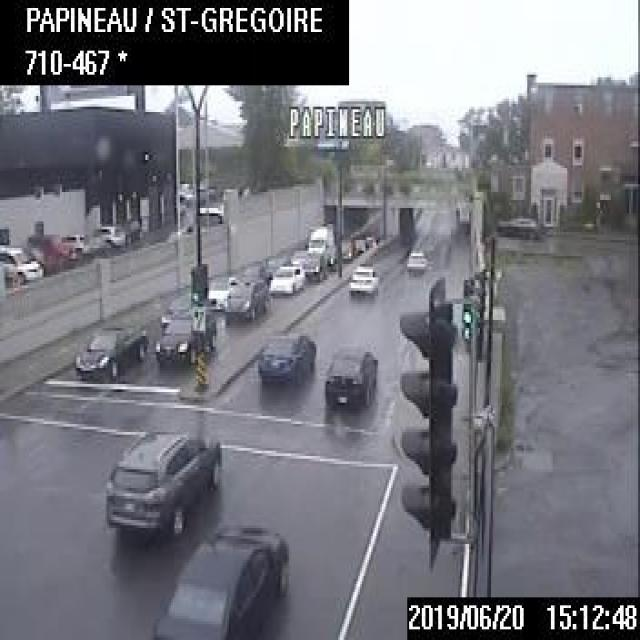vehicle: (149, 518, 291, 638), (102, 429, 222, 531), (73, 323, 145, 376), (153, 308, 215, 363), (322, 344, 378, 403), (221, 264, 269, 328), (258, 328, 313, 379), (0, 244, 42, 281), (27, 232, 71, 267), (158, 292, 192, 334), (493, 208, 543, 236), (267, 259, 303, 295), (206, 274, 237, 312), (292, 247, 322, 278), (347, 264, 378, 293), (308, 225, 336, 257), (91, 224, 125, 250), (56, 230, 87, 256), (404, 248, 424, 269), (338, 238, 355, 260), (352, 236, 366, 252)
